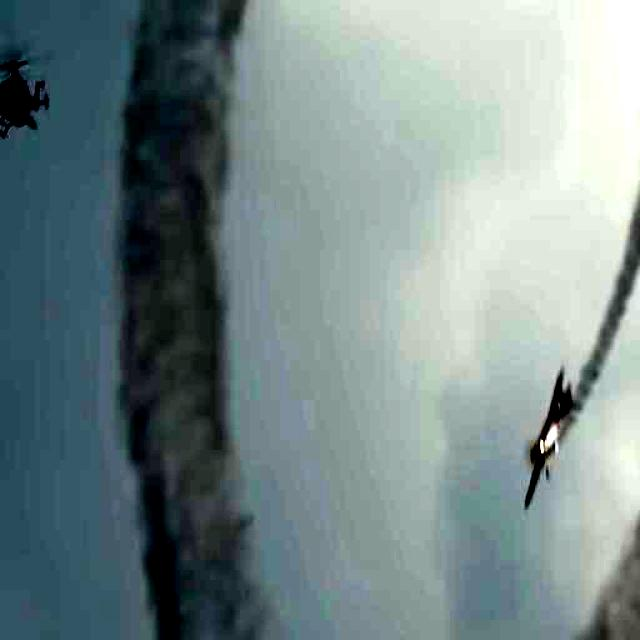drone: (0, 45, 55, 151)
